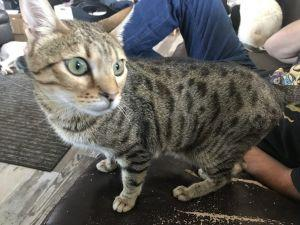bengal: (7, 1, 148, 125)
